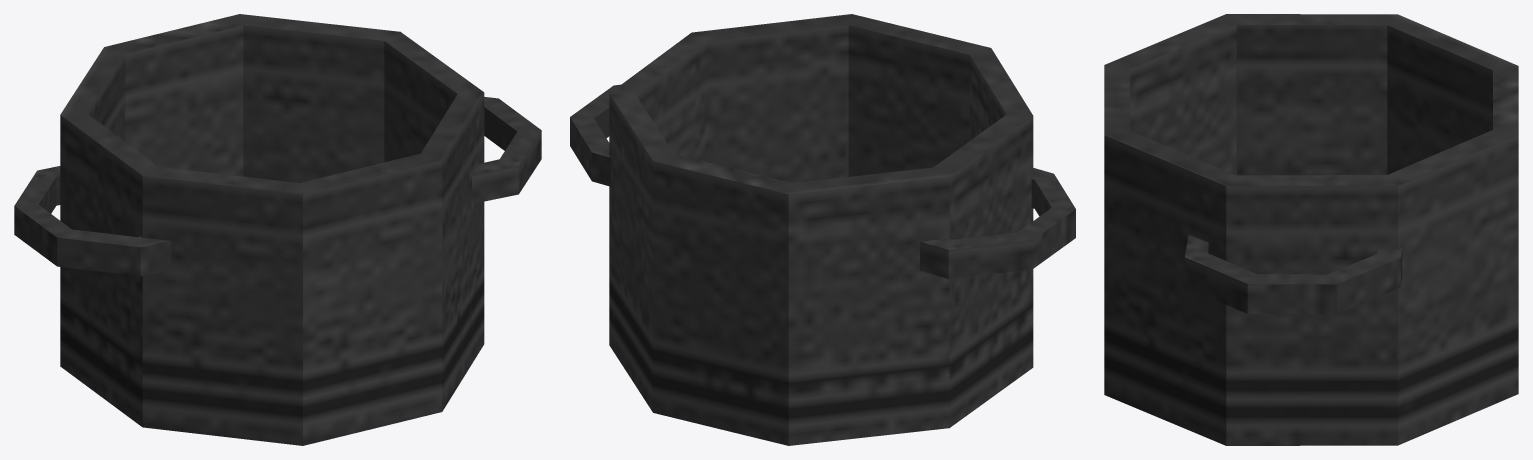
Rendered from Pot.fbx.
The picture shows the model from 3 angles, left to right: view 1: azimuth 30°, elevation 25°; view 2: azimuth 150°, elevation 25°; view 3: azimuth 270°, elevation 25°; orthographic projection. The views are drawn at different scales.
Parts seen in each view (by area): view 1: Cylinder.002; view 2: Cylinder.002; view 3: Cylinder.002.
Boxes of the visible parts, x1,y1,x2,y2 form: Cylinder.002: [14, 14, 541, 445]; Cylinder.002: [570, 14, 1075, 445]; Cylinder.002: [1104, 14, 1518, 445].
Bounding box in the file's own units: 97.45 × 49.44 × 71.49.
Materials: 1 (1 with a texture image).
